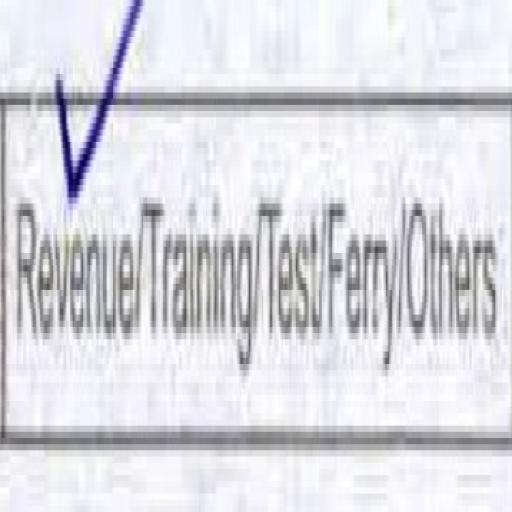check: (3, 4, 141, 480)
